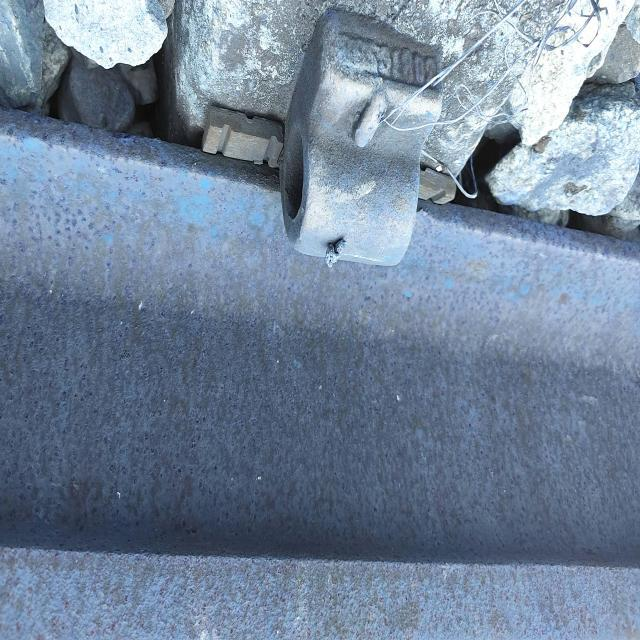Missing Fastener: (269, 0, 467, 305)
